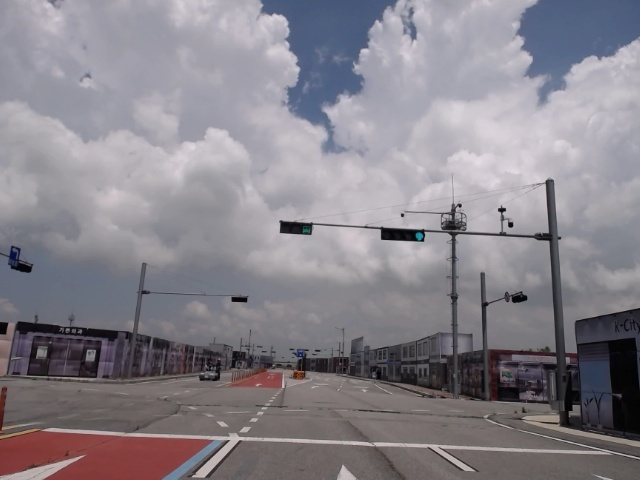straight_green_4: (382, 229, 425, 242)
